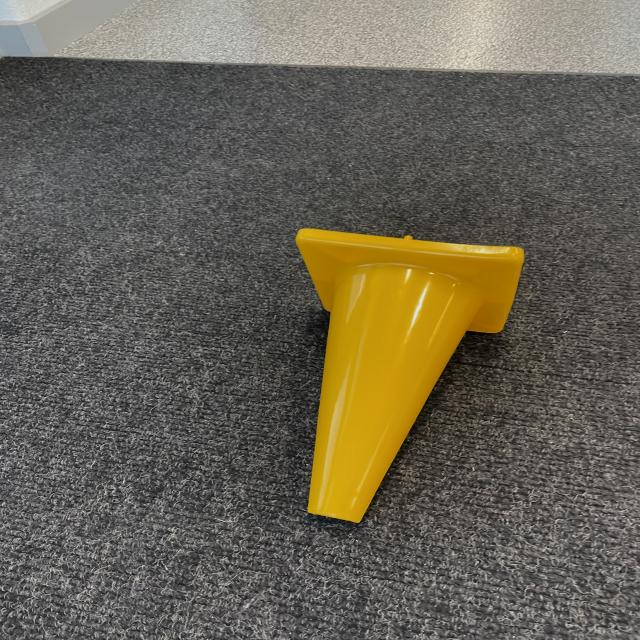frc_cone: (265, 223, 541, 527)
